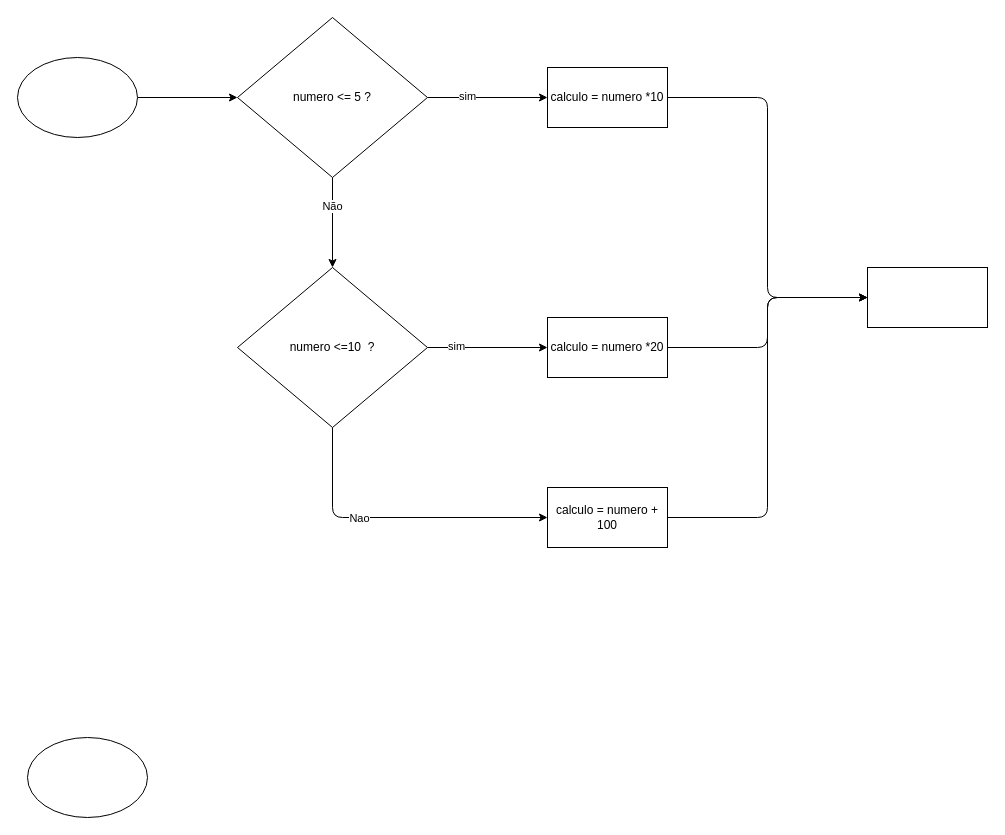
This 1005x835 diagram has some shape labels left out. Each missing label, with the centre of its shape:
"Exiba o valor do cálculo" belongs at point (927, 297).
"Preencher numero" belongs at point (77, 97).
"Preencher: numero01 até o numero 08" belongs at point (87, 777).
